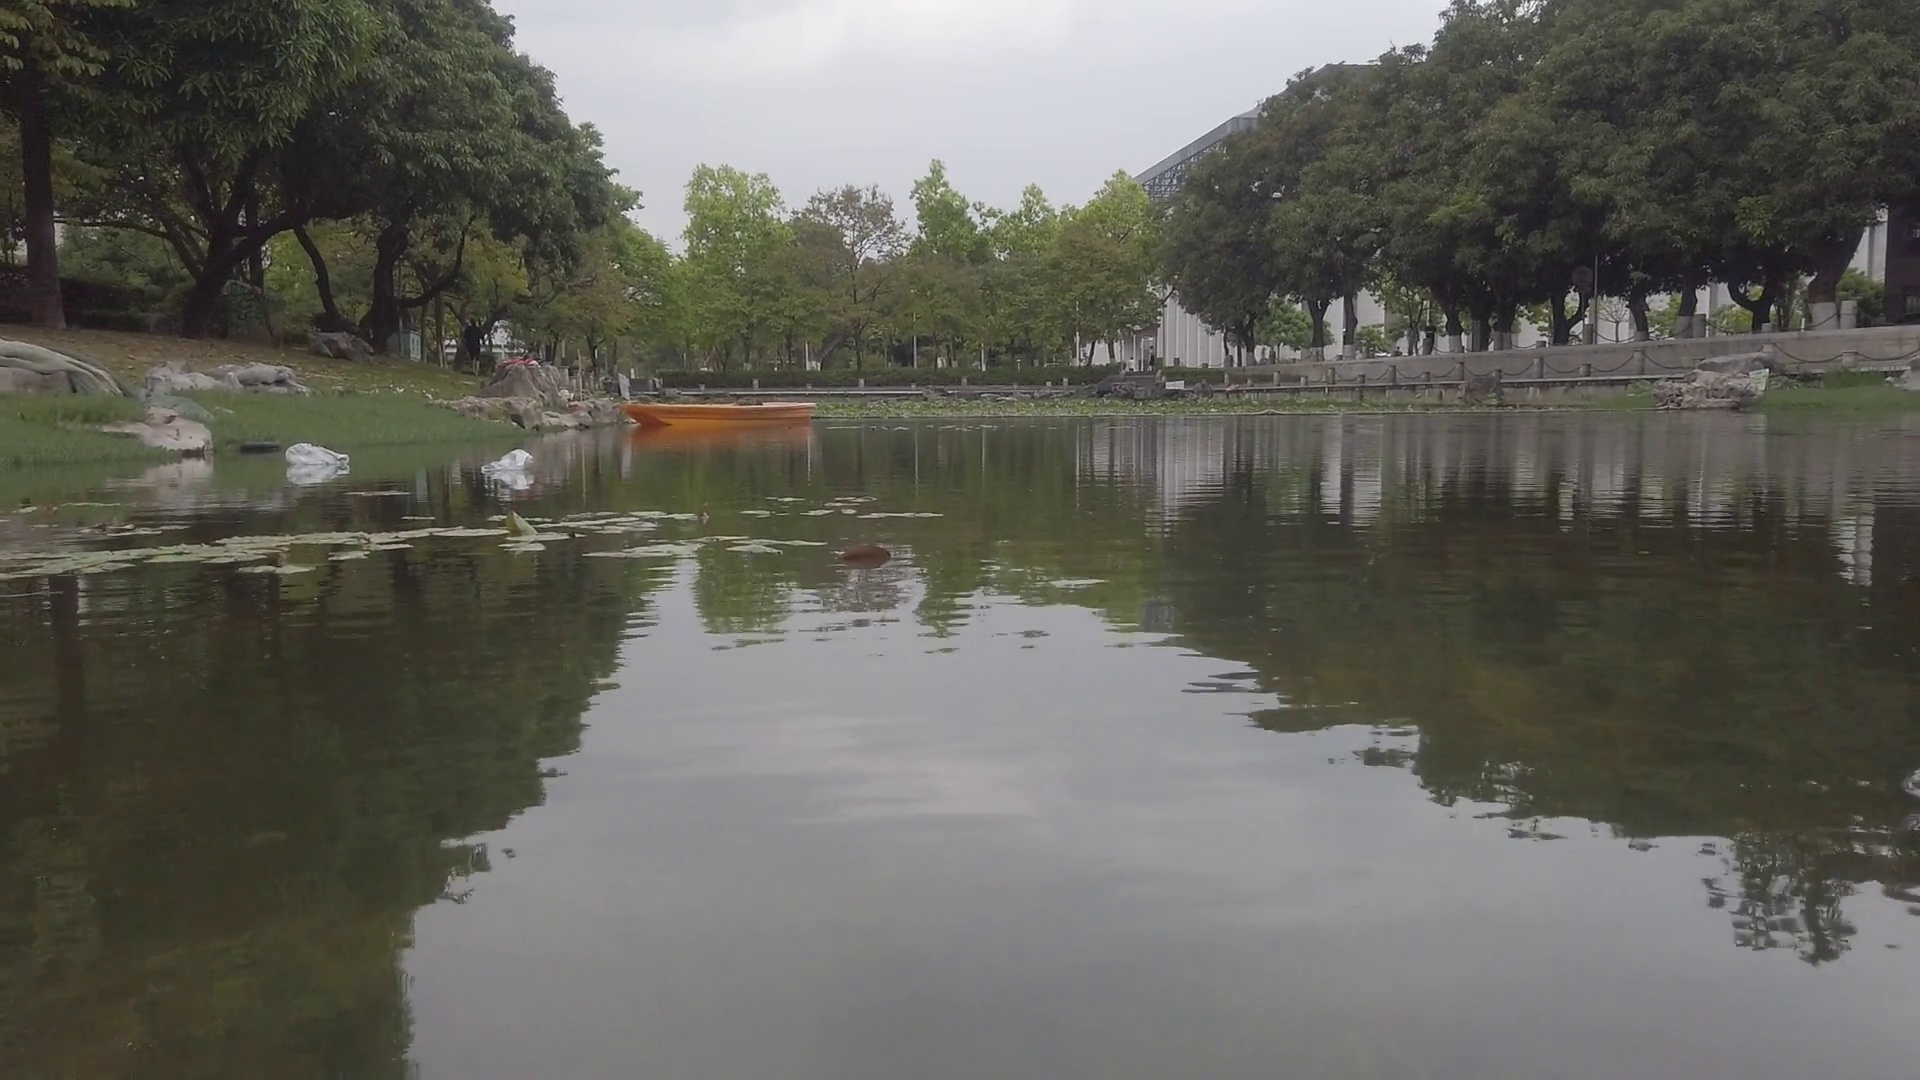paper: (345, 487, 413, 501)
plastic: (286, 443, 349, 469), (487, 450, 531, 469)
